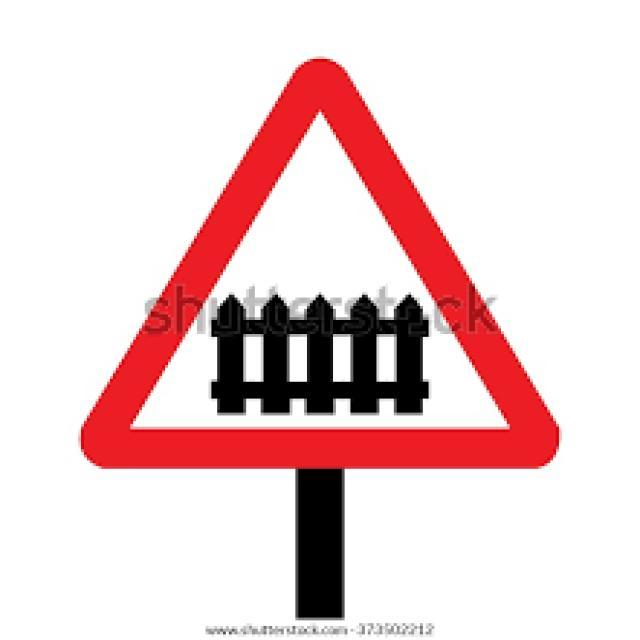guarded level crossing: (43, 46, 581, 488)
